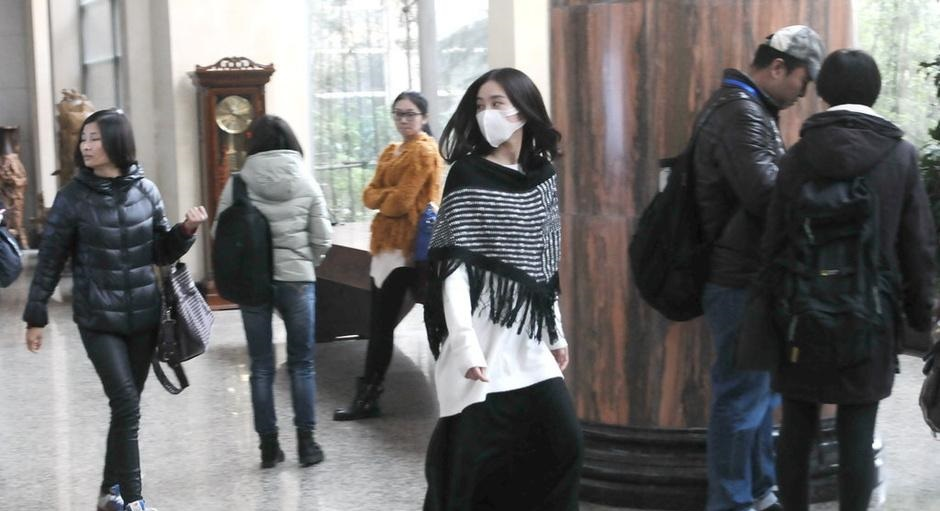face: (768, 61, 815, 110), (79, 123, 110, 167), (392, 99, 423, 134)
face_mask: (476, 83, 520, 145)
